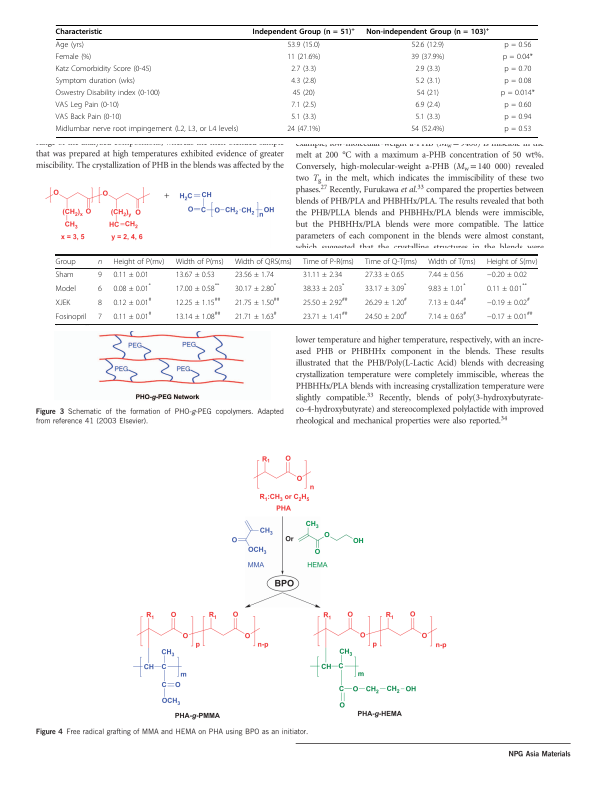borderless: (54, 24, 538, 137), (55, 253, 538, 324)
cell: (55, 125, 239, 134), (365, 26, 490, 37), (252, 26, 356, 37), (55, 89, 161, 99), (55, 65, 152, 75), (55, 77, 136, 87), (55, 113, 122, 122), (55, 101, 120, 110), (234, 257, 293, 266), (486, 310, 533, 321), (175, 296, 221, 307), (234, 296, 280, 307), (302, 296, 348, 307), (175, 310, 221, 321), (302, 310, 348, 321), (175, 282, 220, 293), (486, 296, 531, 307), (364, 257, 418, 266), (364, 296, 408, 307), (234, 310, 278, 321), (364, 310, 408, 321), (112, 257, 165, 266), (302, 257, 355, 266), (234, 282, 277, 293), (302, 282, 345, 293), (364, 282, 407, 293), (486, 257, 538, 266), (486, 282, 528, 293), (427, 257, 477, 266), (175, 257, 224, 266), (112, 282, 152, 293), (427, 282, 467, 293), (112, 296, 152, 307), (427, 296, 467, 307), (112, 310, 152, 321), (427, 310, 467, 321), (55, 28, 103, 37), (486, 270, 528, 279), (55, 53, 92, 63), (175, 270, 216, 279), (234, 270, 275, 279), (302, 270, 343, 279), (364, 270, 405, 279), (500, 89, 536, 99), (286, 41, 321, 51), (286, 53, 321, 63), (410, 53, 445, 63), (112, 270, 150, 279), (411, 41, 445, 51), (427, 270, 464, 279), (502, 53, 534, 63), (286, 125, 321, 134), (410, 125, 445, 134), (55, 41, 85, 51), (503, 41, 532, 51), (503, 65, 532, 75), (503, 77, 532, 87), (55, 312, 87, 321), (290, 65, 317, 75), (414, 65, 441, 75), (290, 77, 317, 87), (414, 77, 441, 87), (503, 101, 532, 110), (503, 113, 532, 122), (503, 125, 532, 134), (290, 101, 317, 110), (414, 101, 441, 110), (290, 113, 317, 122), (414, 113, 441, 122), (292, 89, 316, 99), (416, 89, 440, 99), (55, 284, 77, 293), (55, 257, 76, 266), (55, 270, 74, 279), (55, 298, 71, 307), (97, 270, 103, 279), (97, 284, 103, 293), (97, 298, 103, 307), (97, 312, 103, 321), (97, 259, 103, 265)
